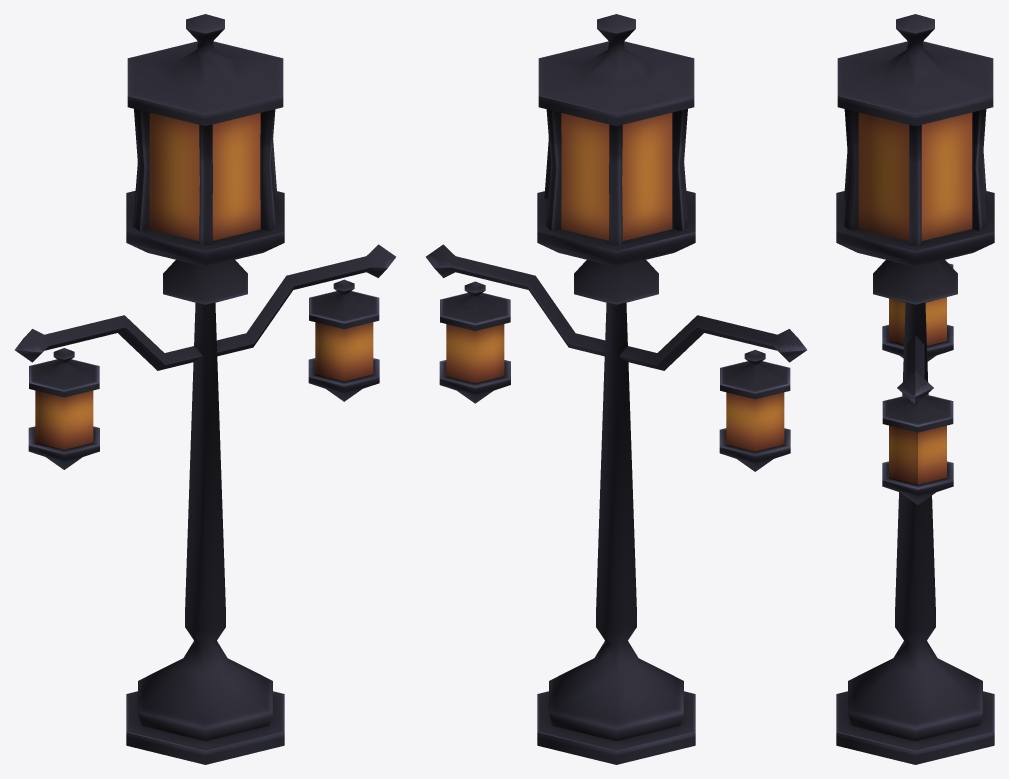
The model's file is Winter_StreetLamp.FBX.
The picture shows the model from 3 angles, left to right: view 1: azimuth 30°, elevation 25°; view 2: azimuth 150°, elevation 25°; view 3: azimuth 270°, elevation 25°; orthographic projection.
Parts seen in each view (by area): view 1: Winter_Lantern, Lantern_Opacity; view 2: Winter_Lantern, Lantern_Opacity; view 3: Winter_Lantern, Lantern_Opacity.
Boxes of the visible parts, box(x1,y1,x2,y2) form: Winter_Lantern: box(15, 14, 395, 764); Lantern_Opacity: box(35, 113, 373, 450); Winter_Lantern: box(426, 14, 806, 764); Lantern_Opacity: box(446, 113, 784, 452); Winter_Lantern: box(836, 14, 994, 764); Lantern_Opacity: box(858, 112, 917, 485).
Size of the model in its own units: 92.22 by 164 by 33.15.
